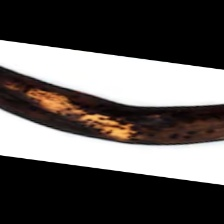banana: (9, 39, 197, 224)
